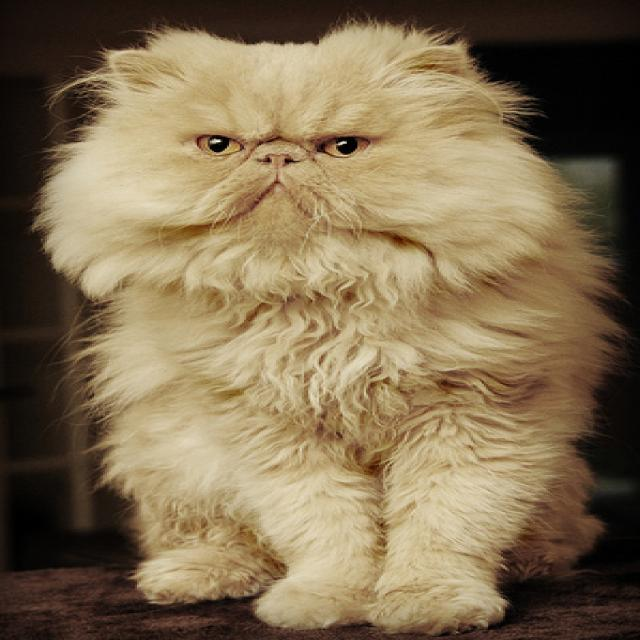Persian: (34, 21, 629, 636)
